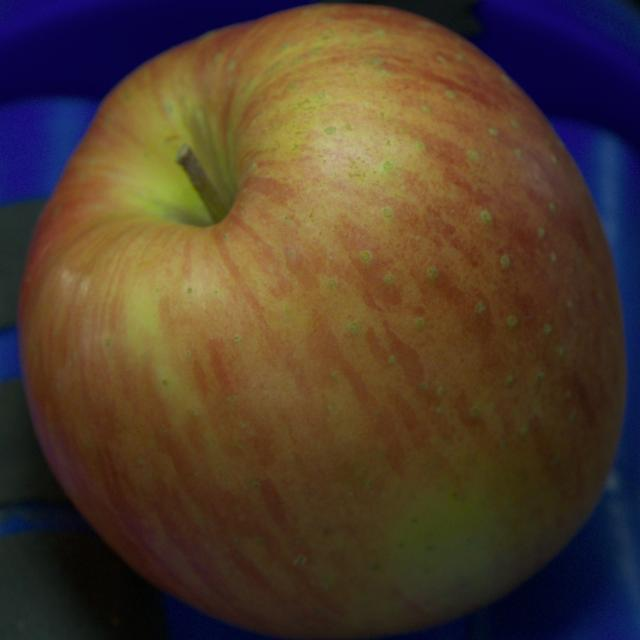apple: (17, 4, 625, 639)
